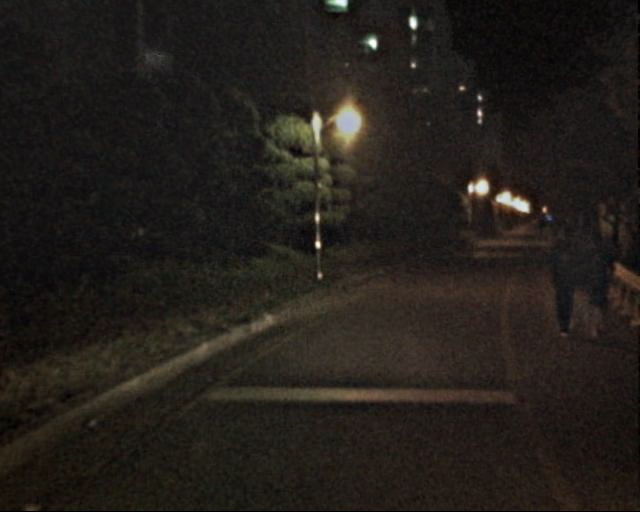person: (535, 227, 582, 341), (567, 229, 613, 340)
